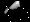person: (6, 3, 20, 18)
